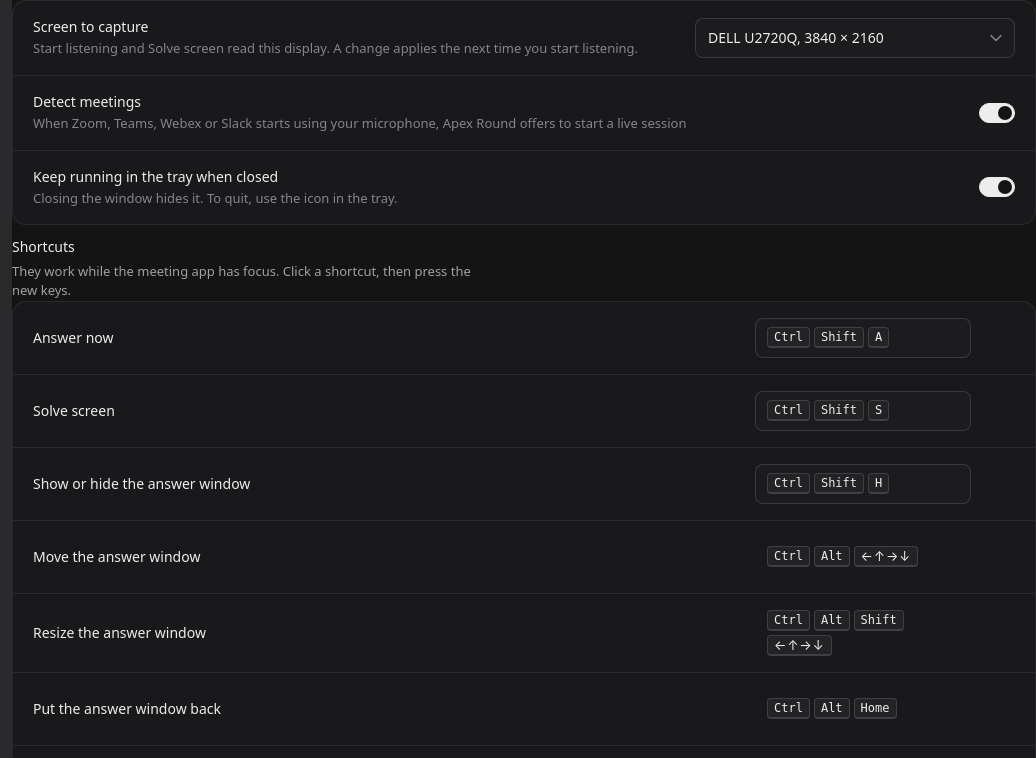
Scenario: DesktopSettings › shows a shortcut another app holds as an inline error and keeps the old one
The width and height of the screenshot is (1036, 758).
Step 1. Click the button with aria-label "Solve screen: Ctrl+Shift+S. Change the shortcut" → click(863, 411), box [755,391,971,431]
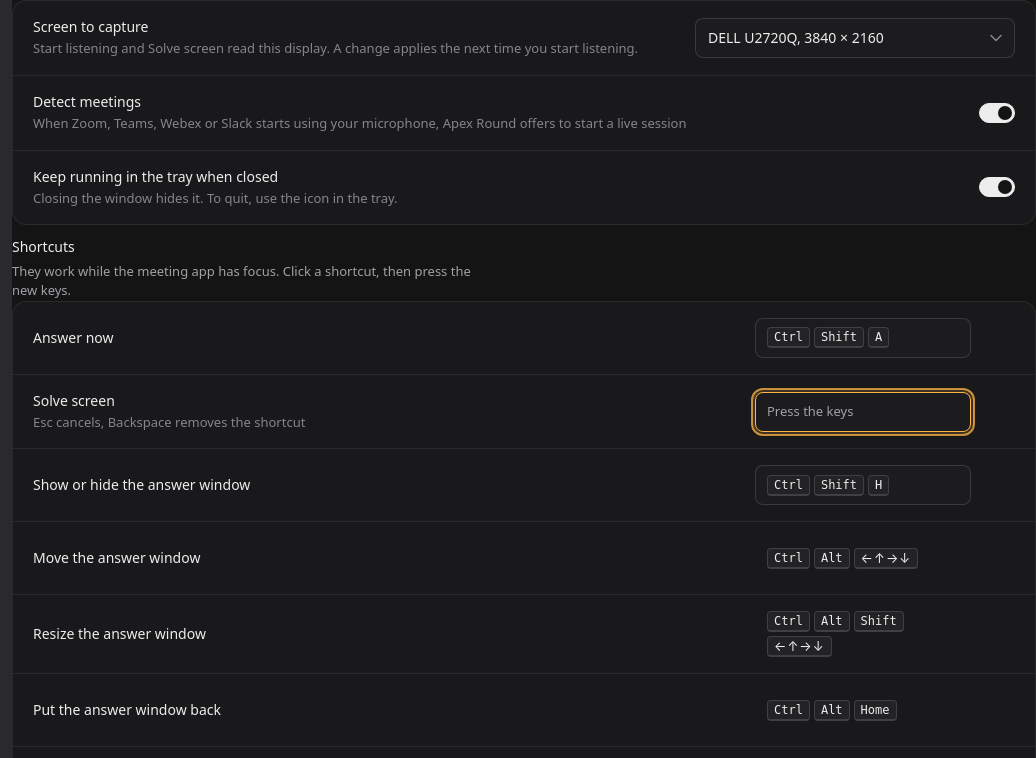
Step 2. Press F9 in the button named "Solve screen: Ctrl+Shift+S. Change the shortcut", box [755,392,971,432]
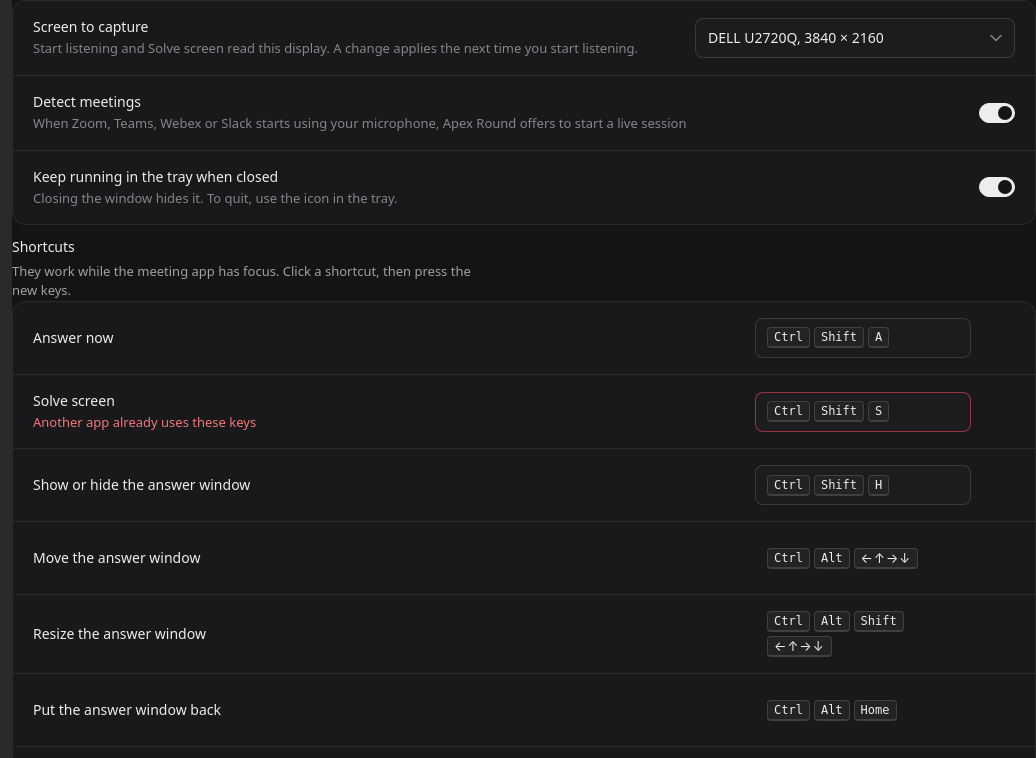
Now the message reads "Another app already uses these keys", box [33,413,256,431]
